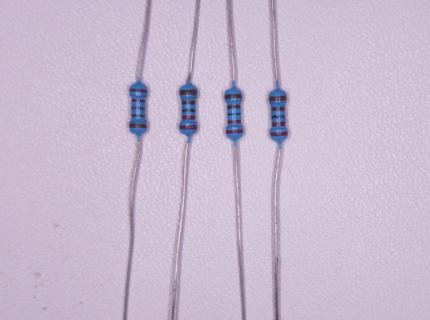Black band: (131, 106, 145, 110), (182, 108, 195, 112), (228, 112, 241, 116), (272, 115, 285, 119)
Brown band: (129, 123, 147, 129), (225, 94, 243, 100), (179, 90, 198, 95), (269, 96, 287, 101), (182, 101, 195, 106), (227, 104, 240, 109), (131, 114, 145, 118), (271, 107, 285, 111)
Red band: (179, 125, 198, 130), (129, 88, 148, 93), (270, 131, 288, 136), (225, 130, 244, 134), (131, 98, 145, 103), (272, 122, 285, 127), (228, 120, 242, 124), (182, 115, 196, 119)
